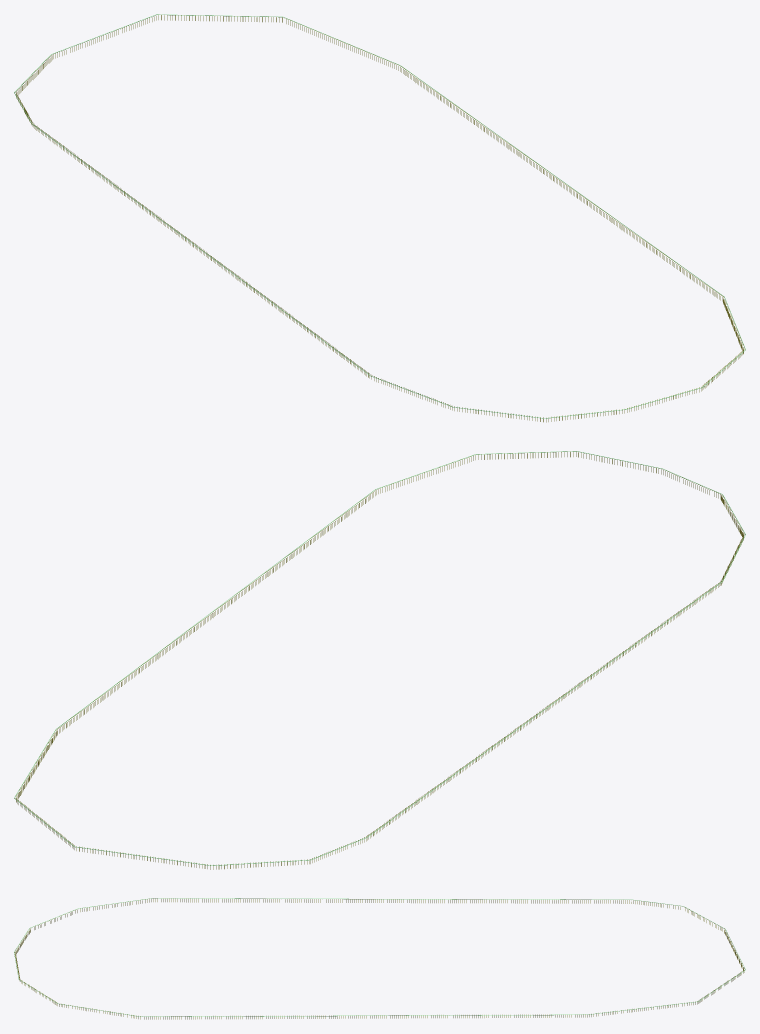
The model's file is river handrail.fbx.
3 views of the same model, one above another, from view 1: azimuth 30°, elevation 25°; view 2: azimuth 150°, elevation 25°; view 3: azimuth 270°, elevation 25° (orthographic). The views are drawn at different scales.
Visible parts, largest first — view 1: steel bair, handrail; view 2: steel bair, handrail; view 3: steel bair, handrail.
Boxes of the visible parts, left/top/right/bottom form: steel bair: left=15, top=15, right=744, bottom=422; handrail: left=14, top=14, right=745, bottom=418; steel bair: left=15, top=451, right=744, bottom=869; handrail: left=14, top=451, right=745, bottom=865; steel bair: left=14, top=898, right=744, bottom=1019; handrail: left=14, top=898, right=745, bottom=1016.
Bounding box in the file's own units: 11277 × 29403 × 158.
